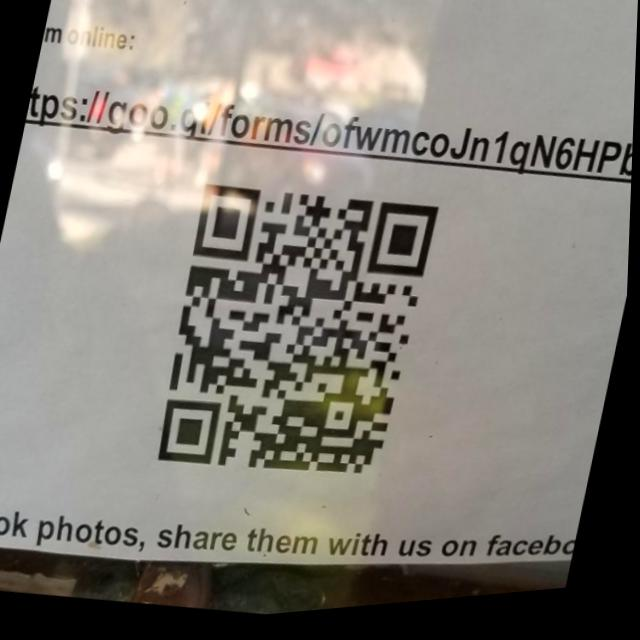QR_CODE: (132, 137, 459, 537)
